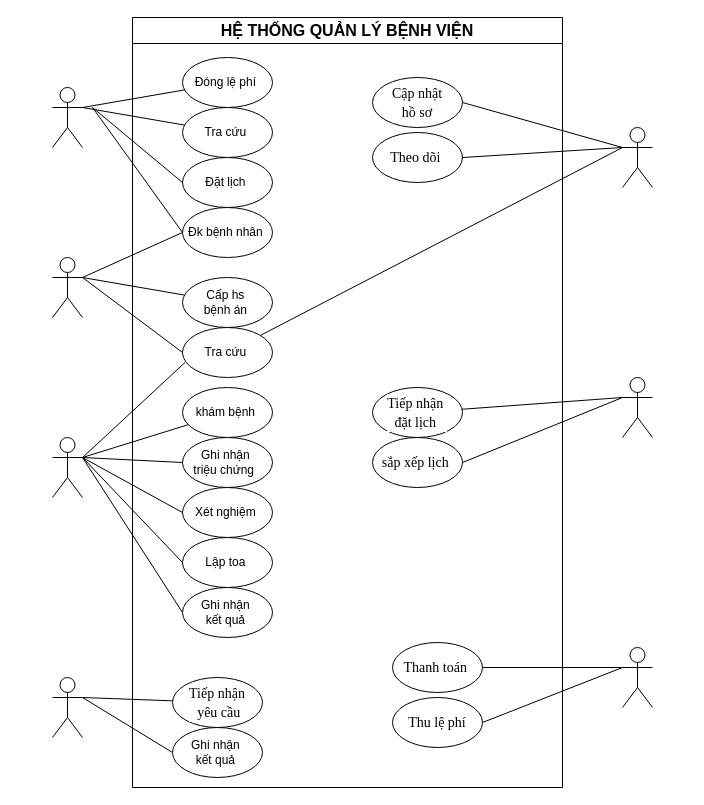
Some shapes in this 704 by 805 pixel diagram are drawn without their labels. Here are the shapes that lost their labels. From the top down, the box of each, then its label:
(52, 86, 82, 148): Bệnh nhân
(622, 126, 652, 188): NV quản lý hồ sơ bệnh án
(52, 256, 82, 318): NV tiếp nhận
(622, 376, 652, 438): Nv chăm sóc khách hàng
(52, 436, 82, 498): Bác sĩ
(622, 646, 652, 708): NV Thu Ngân
(52, 676, 82, 738): NV Xét nghiệm
